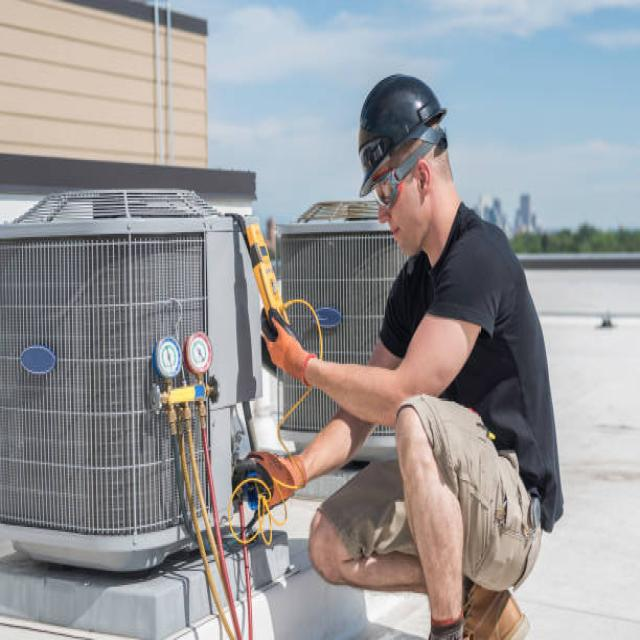Gloves: (254, 297, 326, 386), (228, 445, 311, 515)
helmet: (351, 69, 450, 203)
person: (225, 69, 565, 640)
